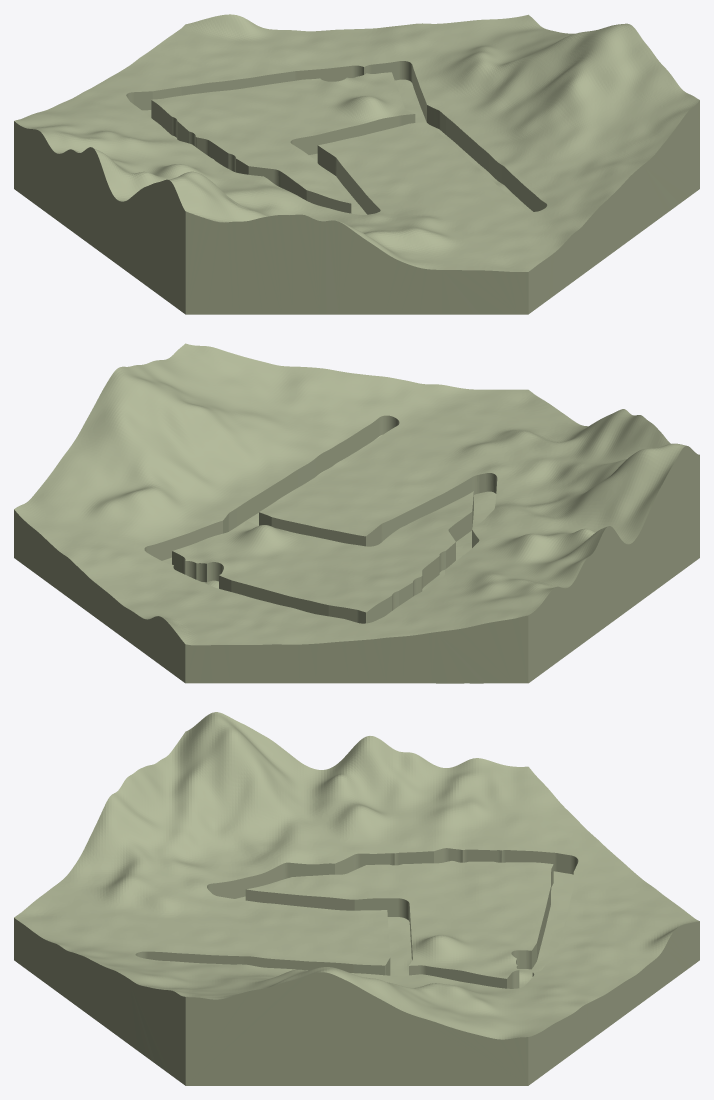
File: relieve.glb
The picture shows the model from 3 angles, top to bottom: view 1: azimuth 30°, elevation 25°; view 2: azimuth 150°, elevation 25°; view 3: azimuth 270°, elevation 25°; orthographic projection.
Parts seen in each view (by area): view 1: world; view 2: world; view 3: world.
Boxes of the visible parts, <box> form: world: <box>14,14,699,314</box>; world: <box>14,343,699,683</box>; world: <box>14,712,699,1085</box>.
Size of the model in its own units: 86.6 by 19.72 by 100.
